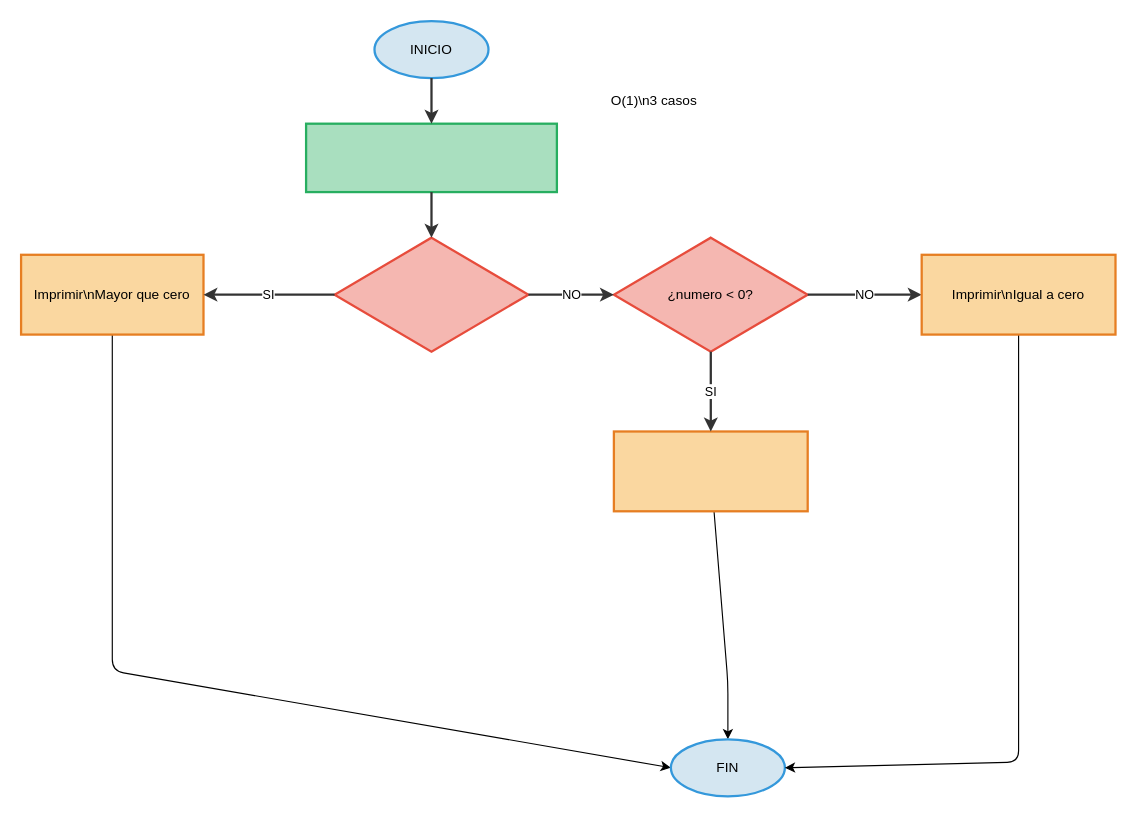
The diagram is 1135 pixels wide and 816 high, and some of its shapes have lost their labels. Each missing label, with the centre of its shape:
"Imprimir\nMenor que cero" belongs at (x=710, y=471).
"Leer numero" belongs at (x=430, y=157).
"¿numero > 0?" belongs at (x=431, y=294).
